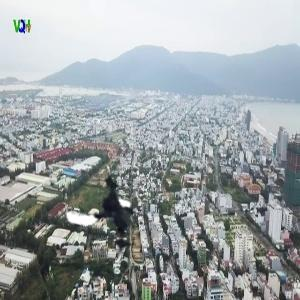drone: (60, 165, 158, 263)
